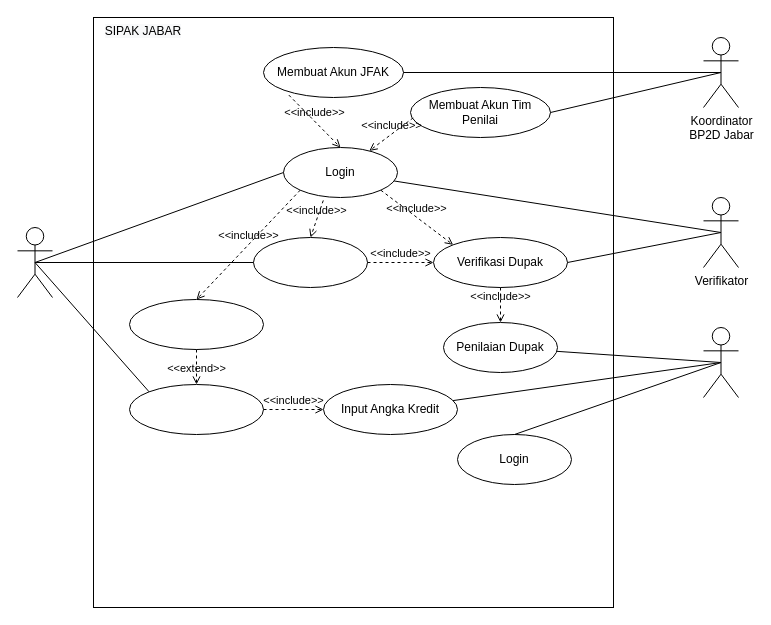
The diagram is 771 pixels wide and 625 high, and some of its shapes have lost their labels. Here are the shapes that lost their labels. From the top down, the centre of each, then its label:
the point at 34,262: JFAK
the point at 310,262: Pengajuan Dupak
the point at 196,324: Cetak Laporan Angka Kredit
the point at 720,362: Tim Penilai
the point at 196,409: Melihat Angka Kredit
